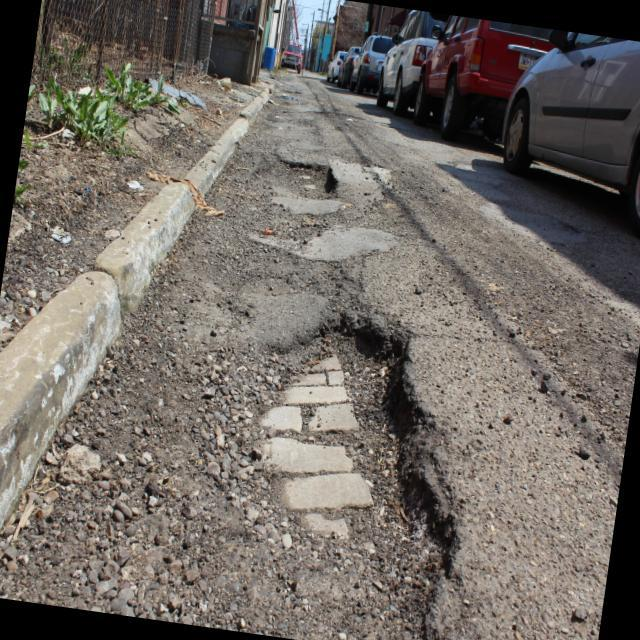Pothole: (226, 305, 495, 640), (268, 148, 344, 209)
